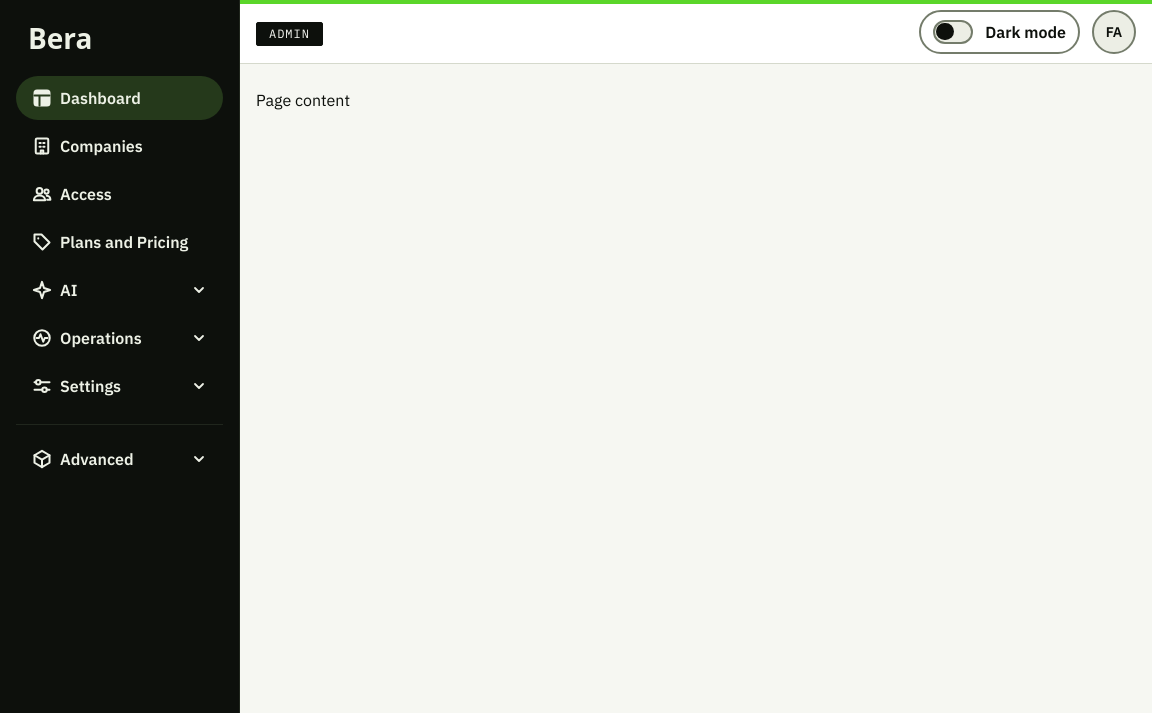
sub-menus › Operations opens with its pages and closes on click
Click the button "Operations": point(120, 338) [16,316,223,360]
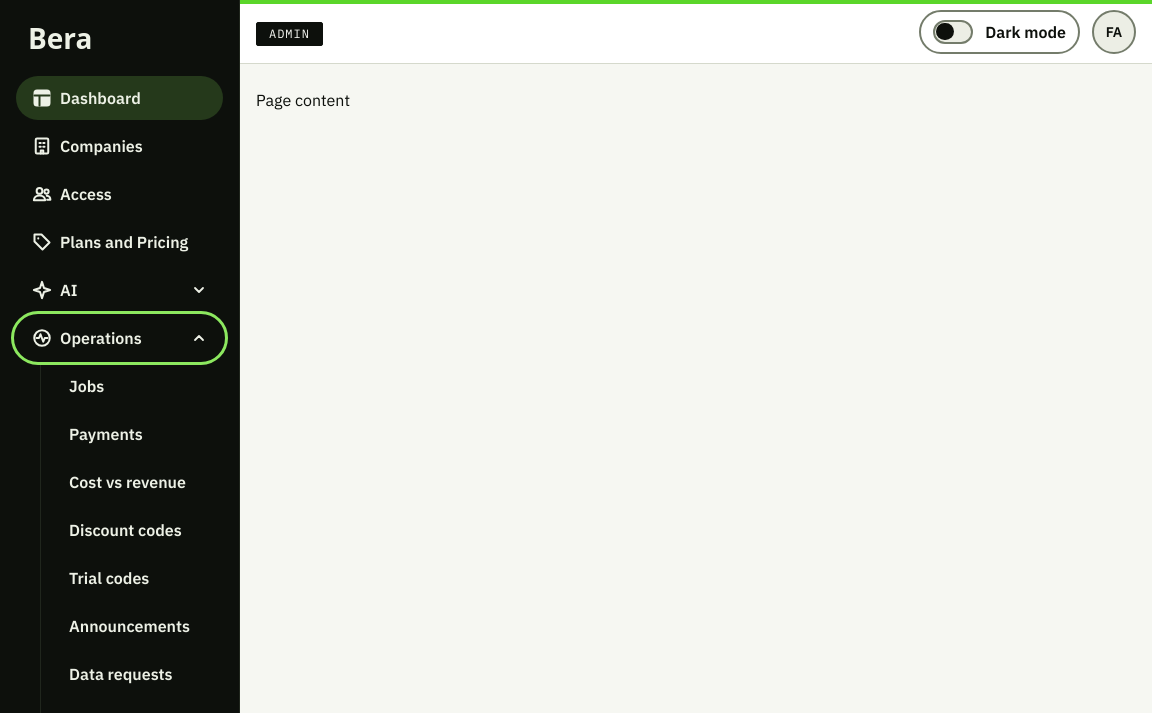
Expected: the button "Operations" is expanded
Click the button "Operations": point(120, 338) [16,316,223,360]
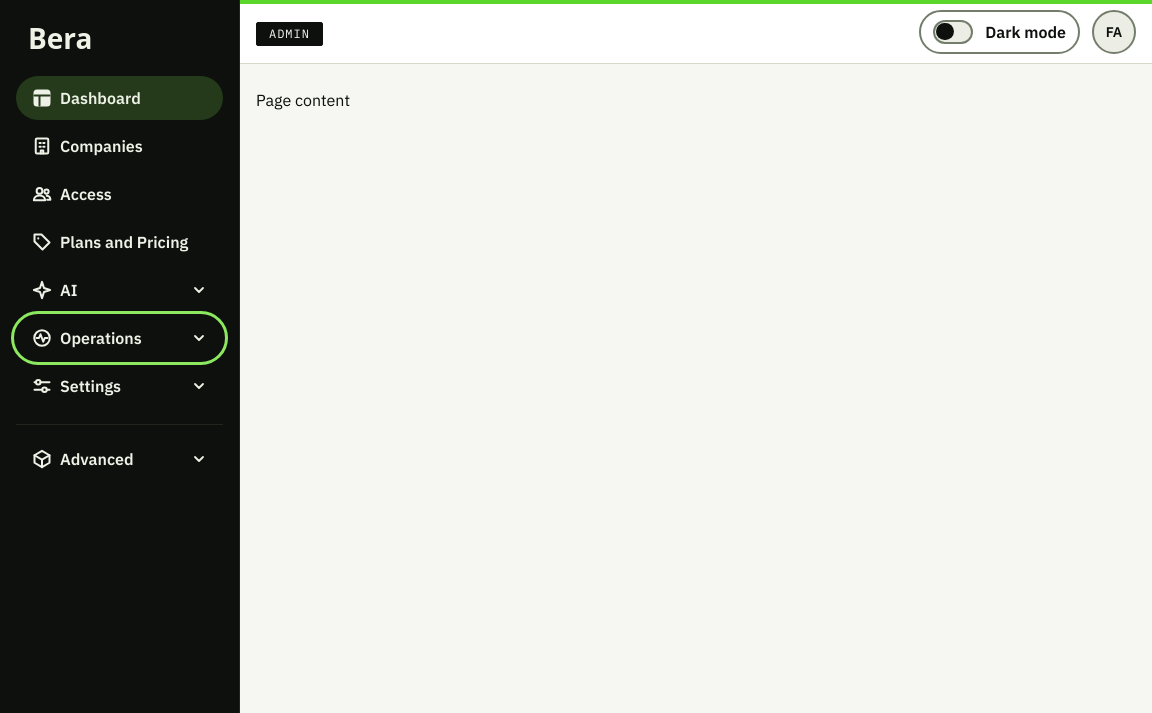
Expected: the link "Jobs" is gone
